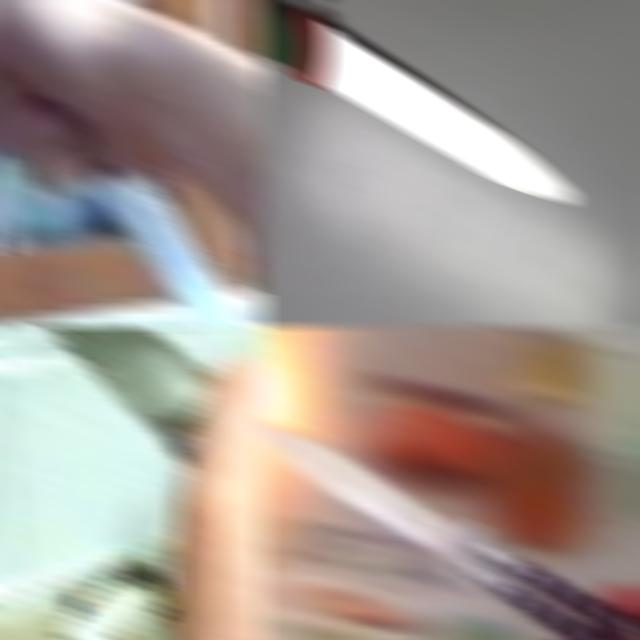Knife: (258, 0, 576, 202)
Knife_Handle: (0, 0, 266, 328), (258, 414, 640, 640), (0, 324, 266, 640)
